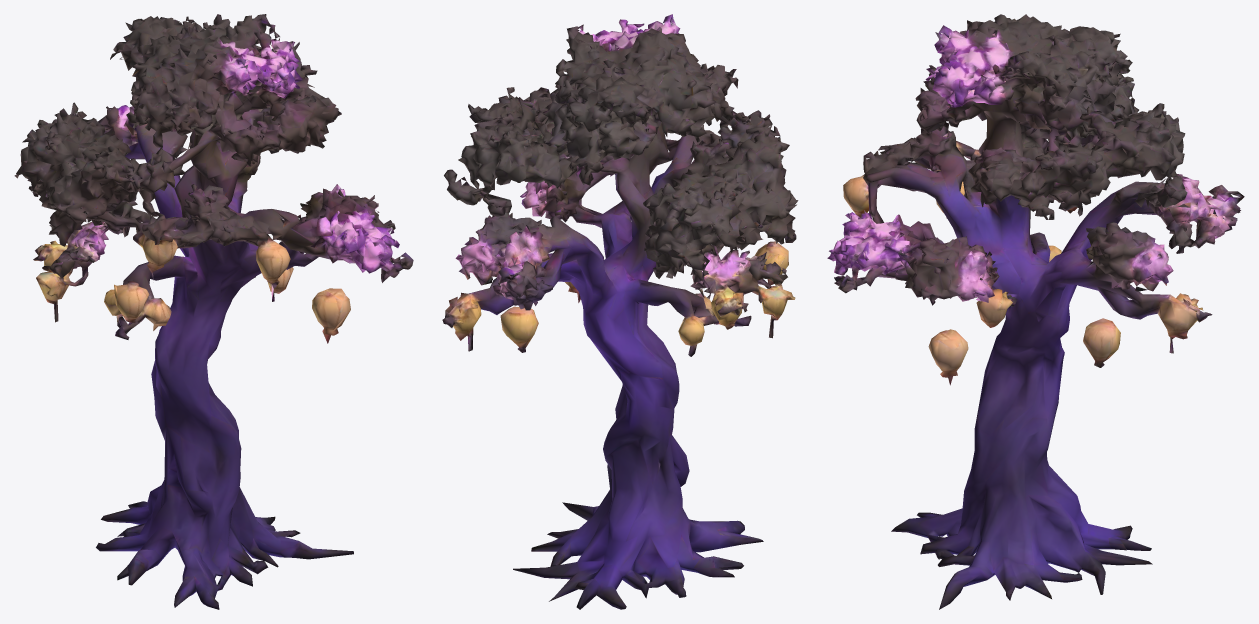
Rendered from hero-tree.glb.
3 views of the same model, side by side, from view 1: azimuth 30°, elevation 25°; view 2: azimuth 150°, elevation 25°; view 3: azimuth 270°, elevation 25° (orthographic). The views are drawn at different scales.
Size of the model in its own units: 1.23 by 2 by 1.43.
Materials: 1 (1 with a texture image).
